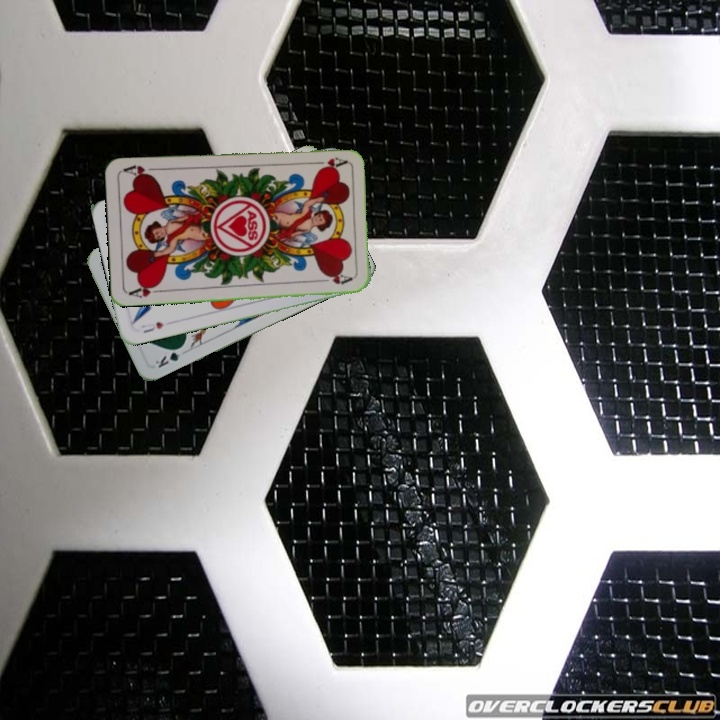GK: (151, 342, 187, 370)
HA: (125, 280, 166, 301), (308, 153, 348, 171)
HU: (137, 318, 167, 336)
